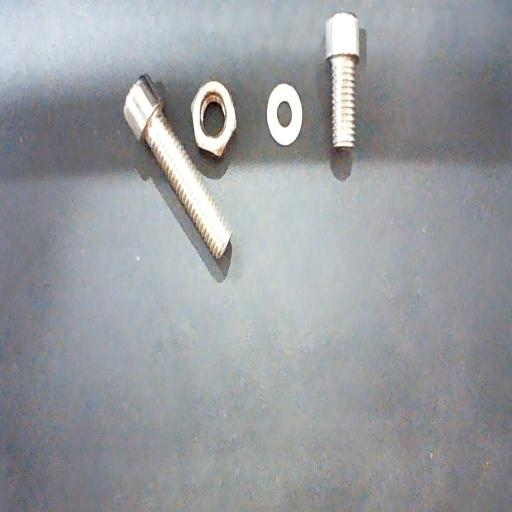nut: (190, 80, 237, 158)
screw: (124, 74, 232, 260), (325, 12, 360, 148)
washer: (266, 84, 302, 146)
